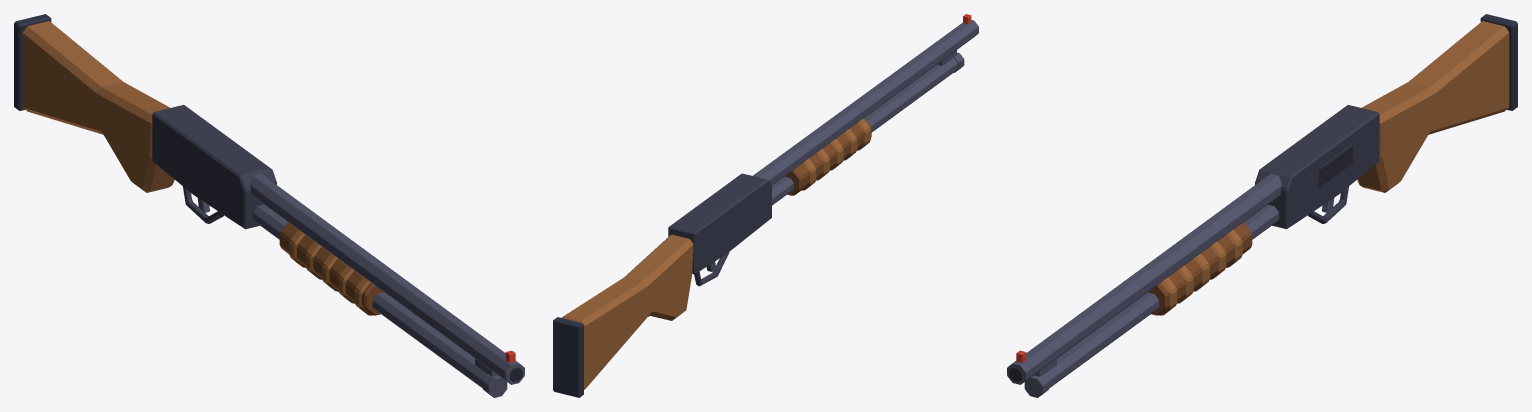
The model's file is myw_pumpshotgun.glb.
The picture shows the model from 3 angles, left to right: view 1: azimuth 30°, elevation 25°; view 2: azimuth 150°, elevation 25°; view 3: azimuth 330°, elevation 25°; orthographic projection. The views are drawn at different scales.
Visible parts, largest first — view 1: Stock, Barrel, Receiver, Pump; view 2: Stock, Receiver, Barrel, Pump; view 3: Stock, Barrel, Receiver, Pump.
Part boxes in pixels (x1,y1,x2,y2): Stock: (22,21,174,192); Barrel: (250,174,524,397); Receiver: (14,14,276,229); Pump: (279,222,383,315); Stock: (562,234,693,389); Receiver: (553,173,771,397); Barrel: (753,14,978,205); Pump: (785,118,871,195); Stock: (1357,21,1509,192); Barrel: (1007,174,1281,397); Receiver: (1255,14,1517,229); Pump: (1148,222,1252,315).
Bounding box in the file's own units: 0.22 × 0.595 × 5.07.
